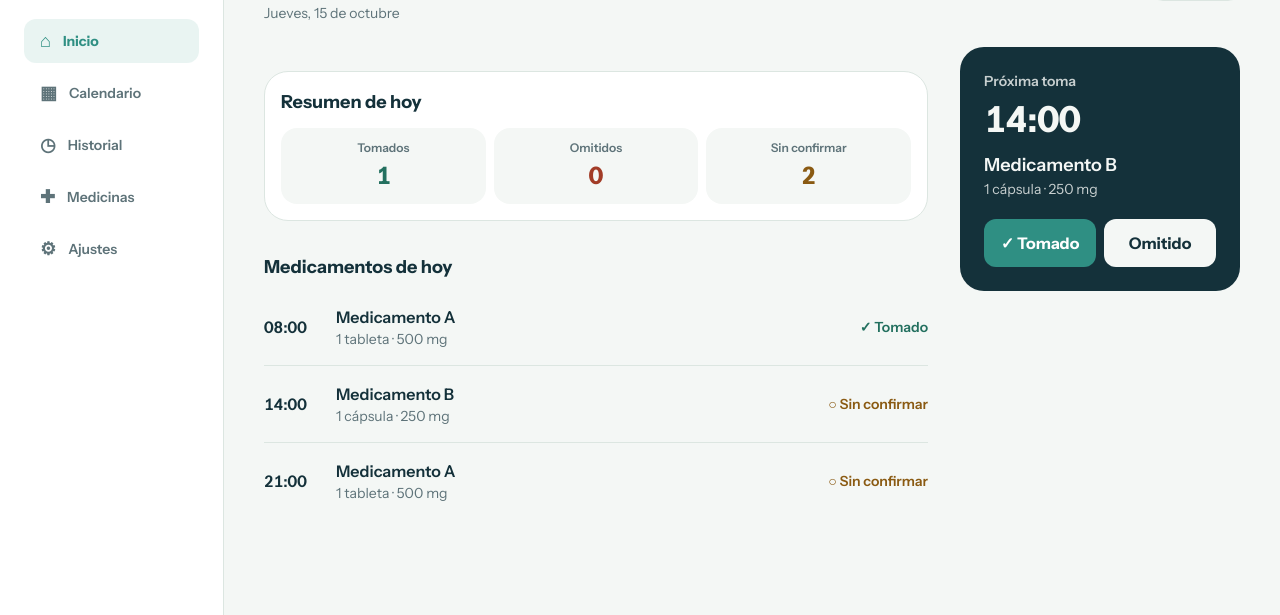
Test case: selector de horarios: apertura y cancelación › Cancelar horario cierra el selector sin cambiar los horarios
The image size is (1280, 615).
Click the button "✚ Medicinas". click: (112, 197)
box: [24, 175, 199, 219]
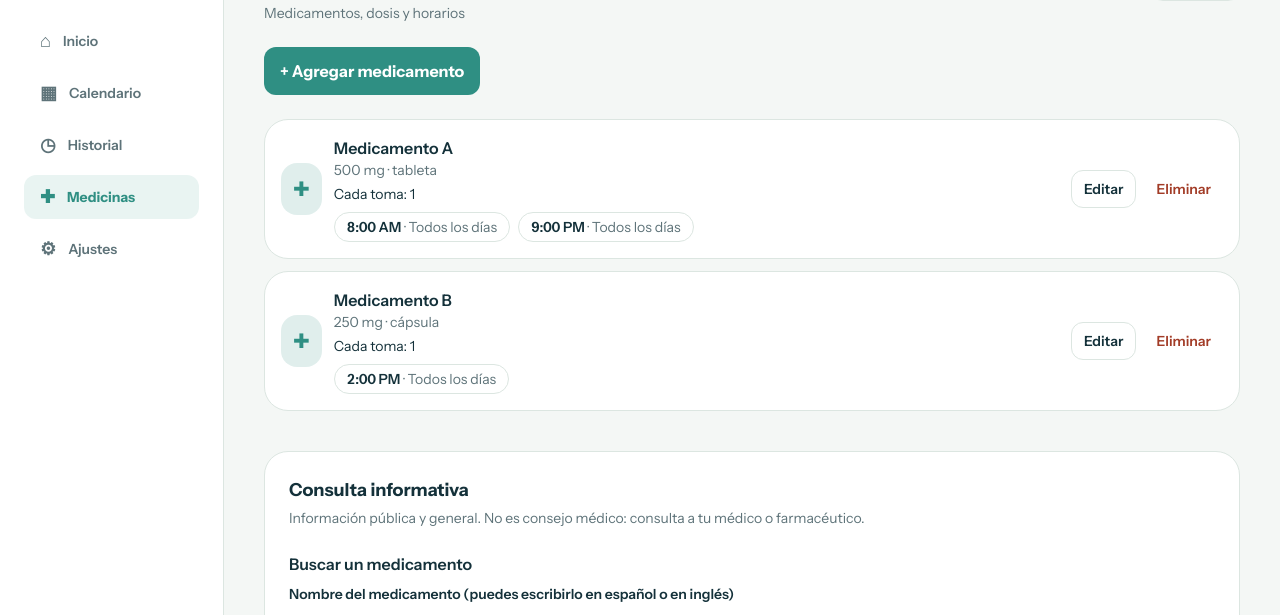
Click the button "+ Agregar medicamento". click: (372, 71)
box: [264, 47, 480, 95]
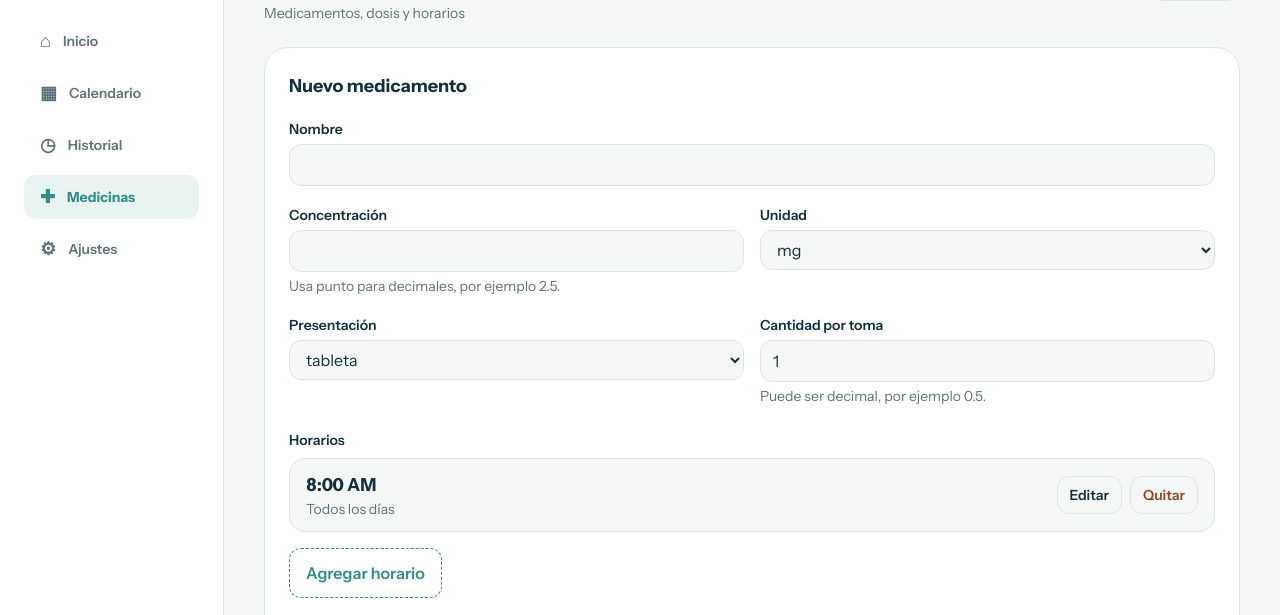
Type "Prueba" into the field labelled "Nombre". click: (752, 165)
box: [289, 144, 1215, 186]
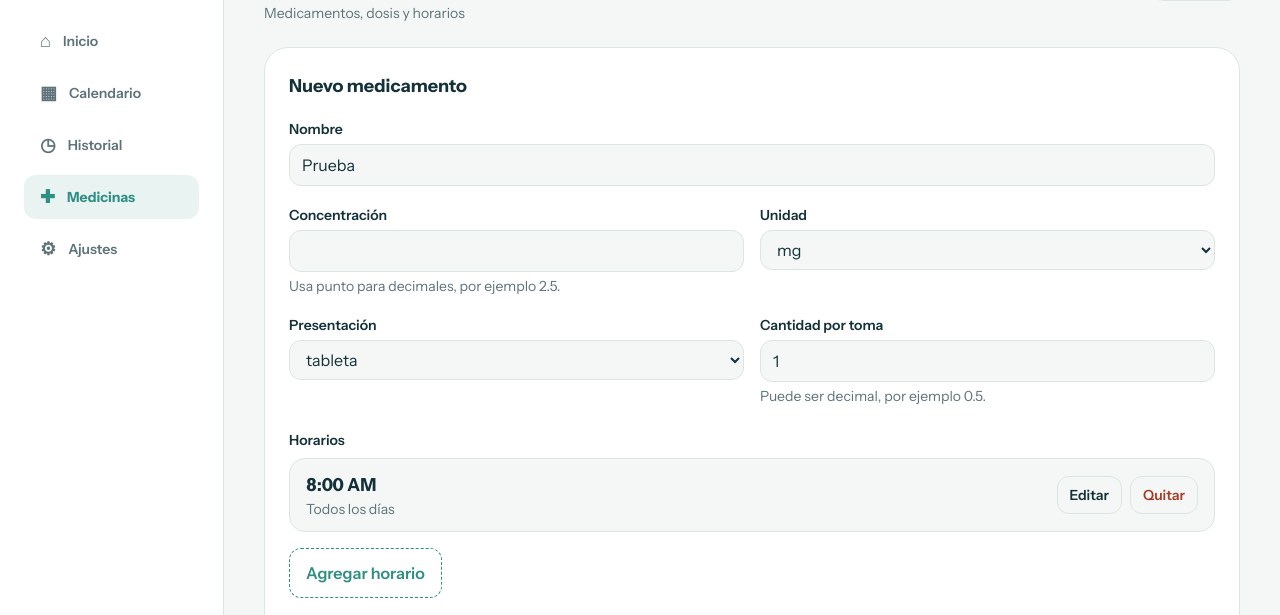
Type "500" into the field labelled "Concentración". click: (516, 251)
box: [289, 230, 744, 272]
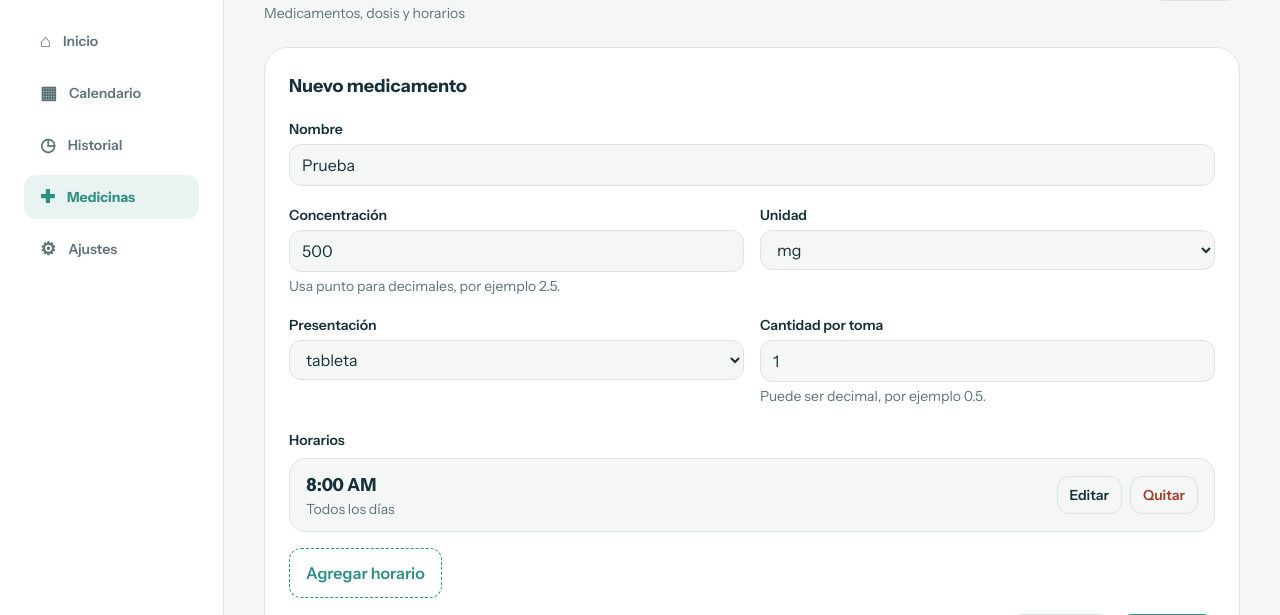
Click the button "Agregar horario". click: (365, 573)
box: [289, 548, 442, 598]
(page scrolled)
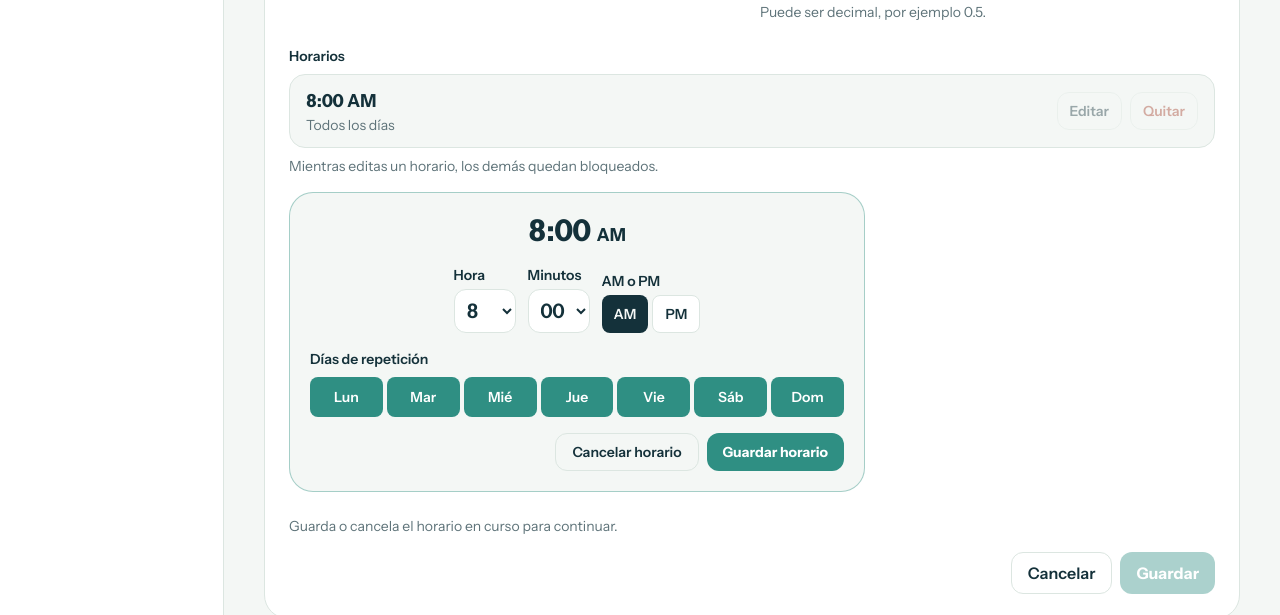
Click the button "Cancelar horario". click: (627, 452)
box: [555, 433, 698, 471]
(page scrolled)
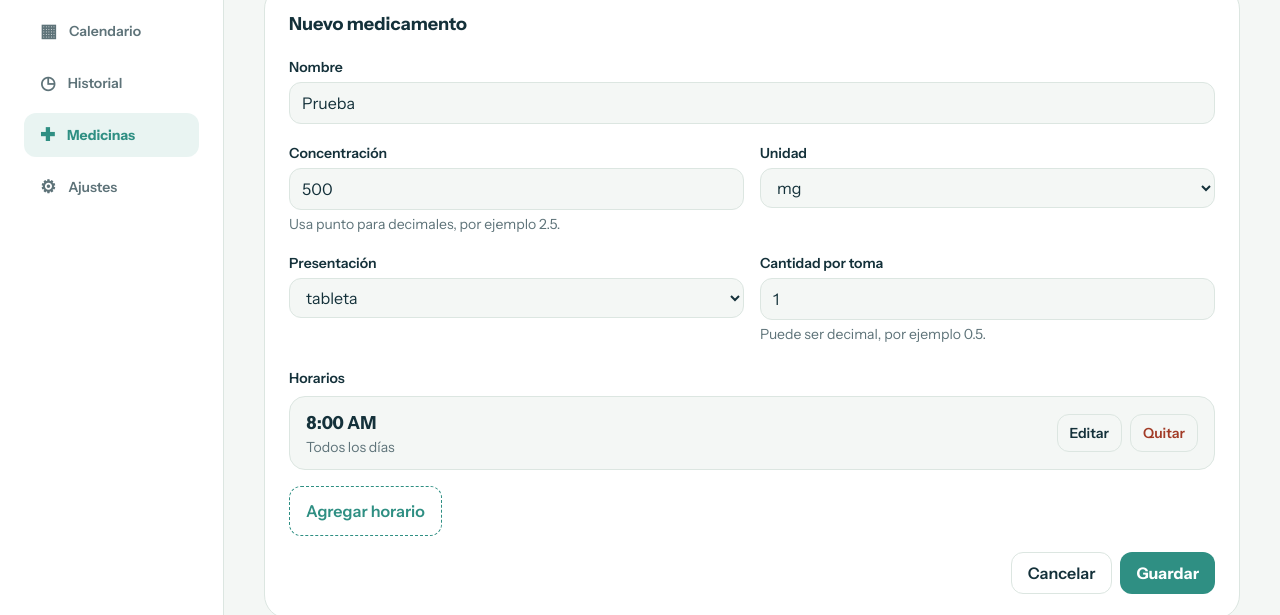
expect the button "Guardar horario" is gone: met
expect the button "Agregar horario" is shown: met, box [289, 486, 442, 536]
expect the button with aria-label "Editar horario 8:00 AM" is enabled: met, box [1056, 414, 1122, 452]
